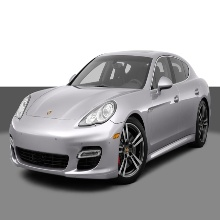no damage: (8, 50, 211, 185)
